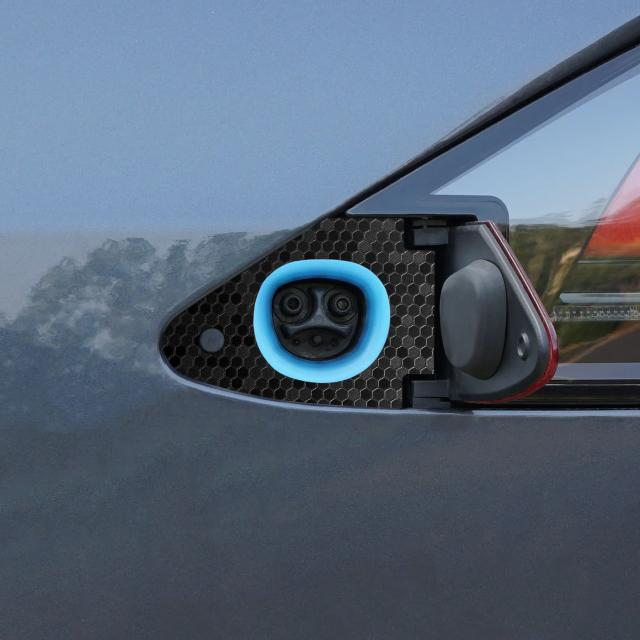Tesla Model-S-: (226, 203, 416, 476)
